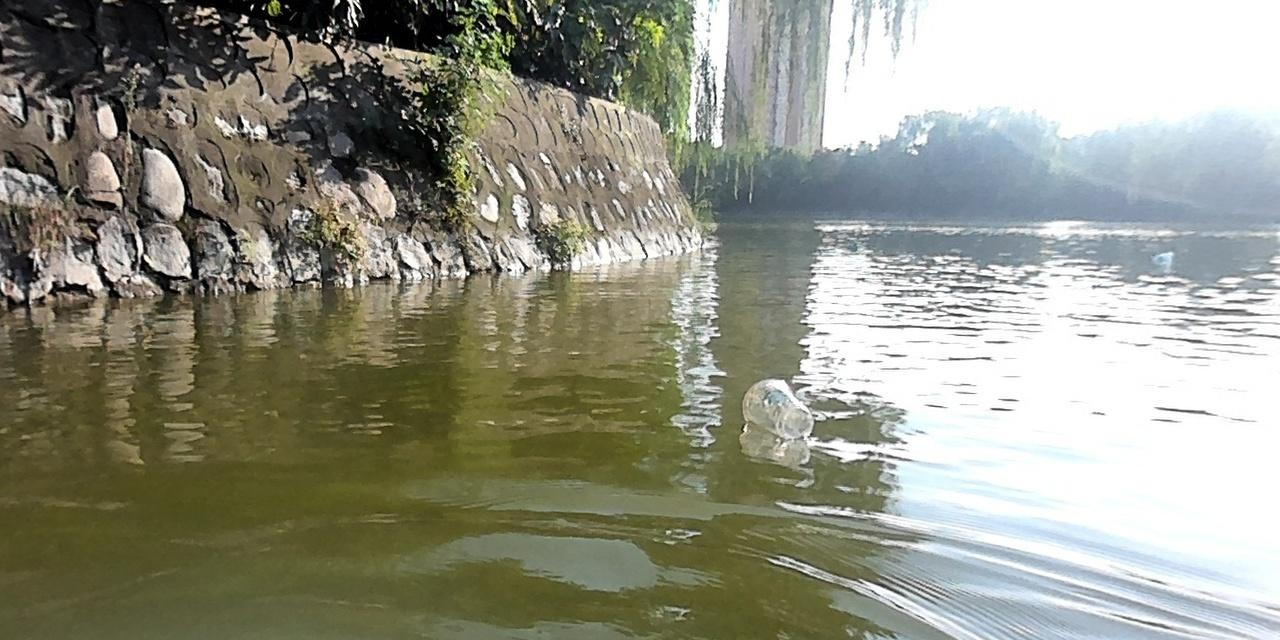bottle: (738, 374, 815, 438), (1149, 246, 1175, 264)
